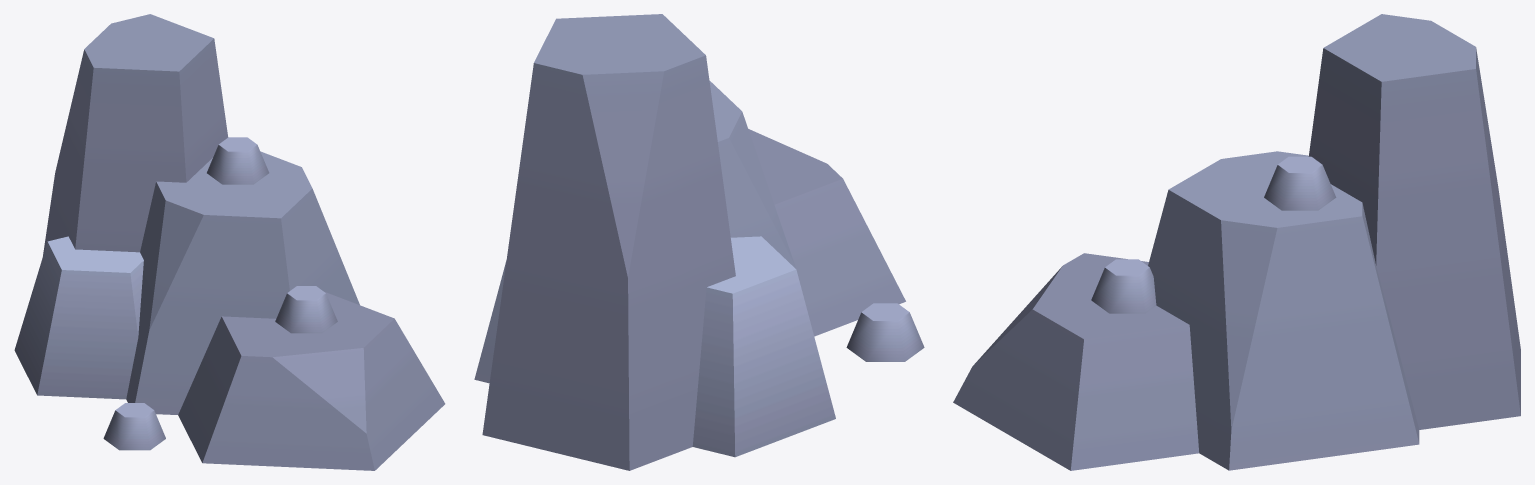
File: rock-wide.glb
3 renders of one model, left to right at view 1: azimuth 30°, elevation 25°; view 2: azimuth 150°, elevation 25°; view 3: azimuth 270°, elevation 25°, orthographic. The views are drawn at different scales.
Parts seen in each view (by area): view 1: rock-wide; view 2: rock-wide; view 3: rock-wide.
Part boxes in pixels (box(x1,y1,x2,y2)): rock-wide: box(14, 14, 445, 470); rock-wide: box(474, 14, 924, 470); rock-wide: box(953, 14, 1520, 470).
Bounding box in the file's own units: 1.09 × 1.02 × 1.57.
1 material, 1 textured.
